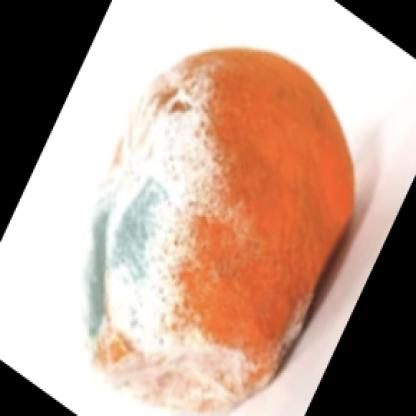rotten: (86, 49, 358, 416)
